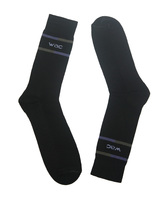sock: (82, 8, 151, 191), (18, 6, 86, 187)
